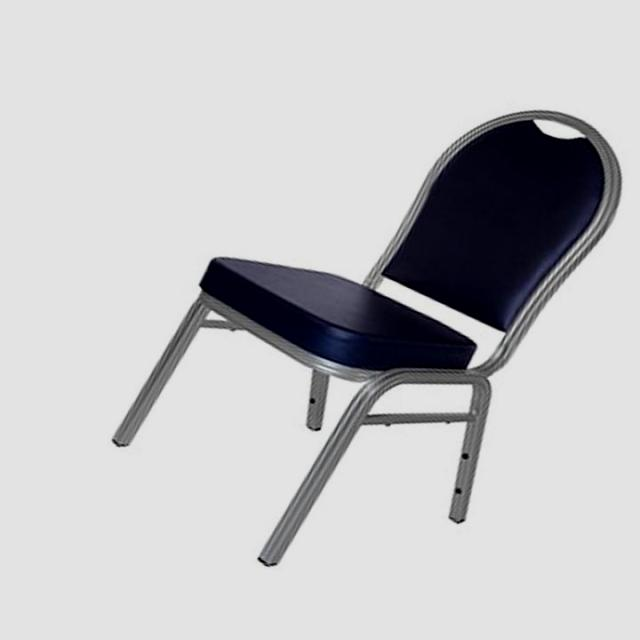Chair: (110, 111, 624, 570)
